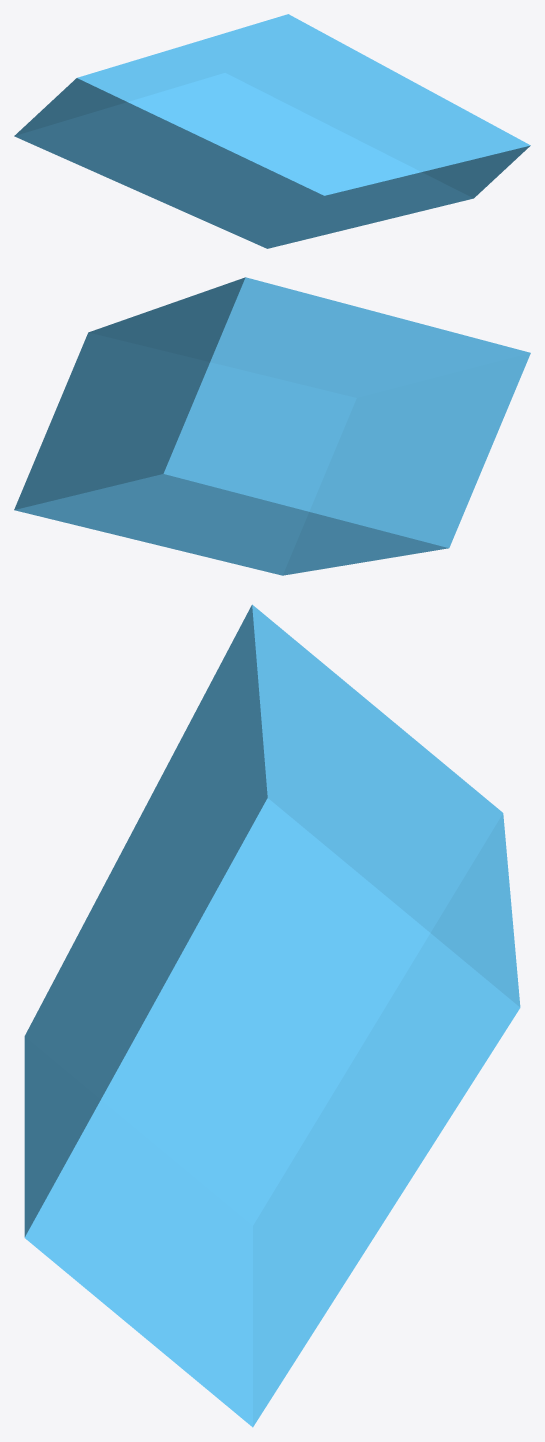
The model's file is Event_420107950_HBrechit_8.fbx.
3 renders of one model, top to bottom at view 1: azimuth 30°, elevation 25°; view 2: azimuth 150°, elevation 25°; view 3: azimuth 270°, elevation 25°, orthographic. The views are drawn at different scales.
Parts seen in each view (by area): view 1: Model; view 2: Model; view 3: Model.
Boxes of the visible parts, bbox=[...] form: Model: bbox=[14, 14, 530, 248]; Model: bbox=[14, 277, 530, 575]; Model: bbox=[24, 604, 520, 1427].
Size of the model in its own units: 1.19 by 0.6471 by 0.643.
